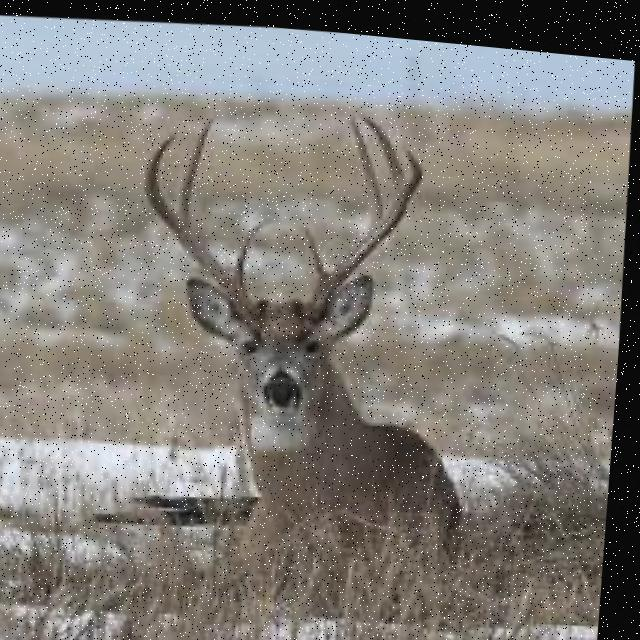L-F: (147, 128, 258, 312)
L-G1: (238, 213, 268, 284)
L-G2: (181, 110, 218, 230)
R-F: (308, 139, 428, 312)
R-G1: (306, 219, 333, 275)
R-G2: (348, 105, 387, 227)
